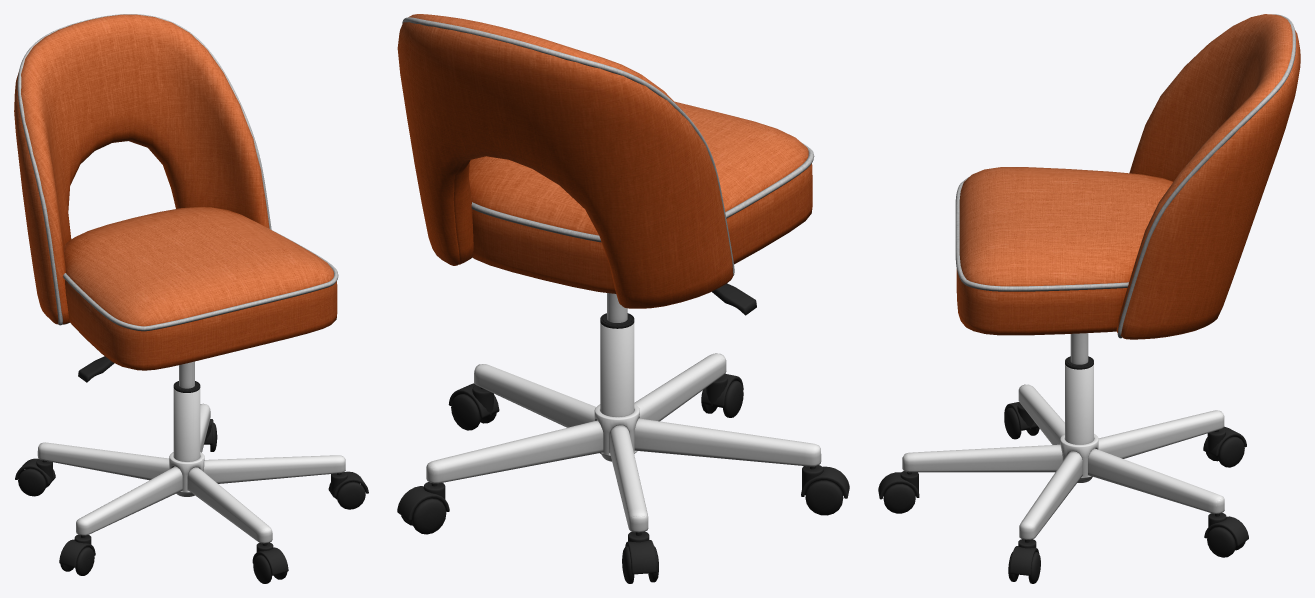
The model's file is lloyd_office_chair_marigold_orange_and_grey.glb.
3 renders of one model, left to right at view 1: azimuth 30°, elevation 25°; view 2: azimuth 150°, elevation 25°; view 3: azimuth 270°, elevation 25°, orthographic. The views are drawn at different scales.
Visible parts, largest first — view 1: FABRIC_A001_FABRIC_A_0, CHROME001_CHROME_0, PLASTIC001_PLASTIC_0, FABRIC_B001_FABRIC_B_0; view 2: FABRIC_A001_FABRIC_A_0, CHROME001_CHROME_0, PLASTIC001_PLASTIC_0, FABRIC_B001_FABRIC_B_0; view 3: FABRIC_A001_FABRIC_A_0, CHROME001_CHROME_0, PLASTIC001_PLASTIC_0, FABRIC_B001_FABRIC_B_0.
Boxes of the visible parts, x1,y1,x2,y2 form: FABRIC_A001_FABRIC_A_0: (14,14,337,370); CHROME001_CHROME_0: (37,361,345,543); PLASTIC001_PLASTIC_0: (15,356,368,583); FABRIC_B001_FABRIC_B_0: (17,14,338,331); FABRIC_A001_FABRIC_A_0: (397,14,812,308); CHROME001_CHROME_0: (426,293,821,532); PLASTIC001_PLASTIC_0: (397,283,849,583); FABRIC_B001_FABRIC_B_0: (402,17,814,275); FABRIC_A001_FABRIC_A_0: (956,14,1300,339); CHROME001_CHROME_0: (902,333,1224,539); PLASTIC001_PLASTIC_0: (878,356,1248,583); FABRIC_B001_FABRIC_B_0: (955,14,1295,338).
Size of what is drawn, in the model's own units: 60.76 by 81.3 by 66.2.
Materials: 5 (5 with a texture image).
